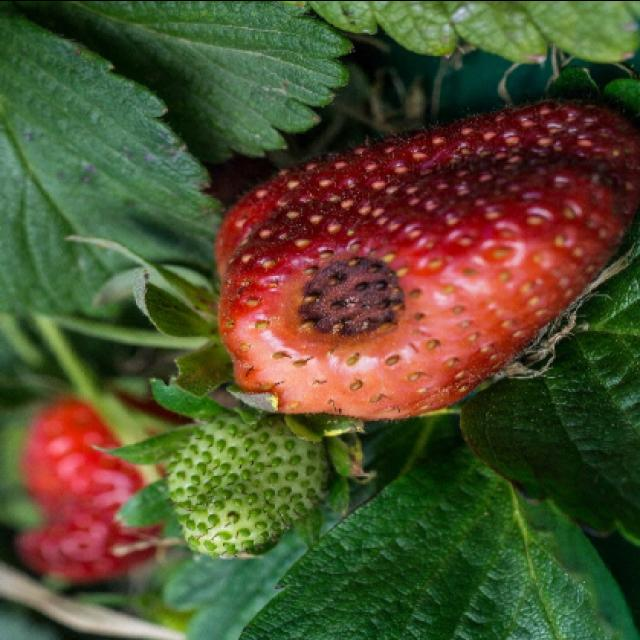Anthracnose Fruit Rot: (295, 242, 415, 354)
